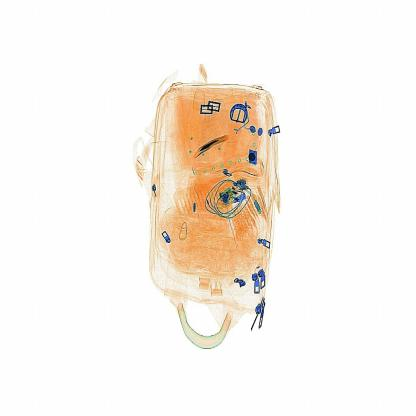wrench: (188, 124, 229, 161)
